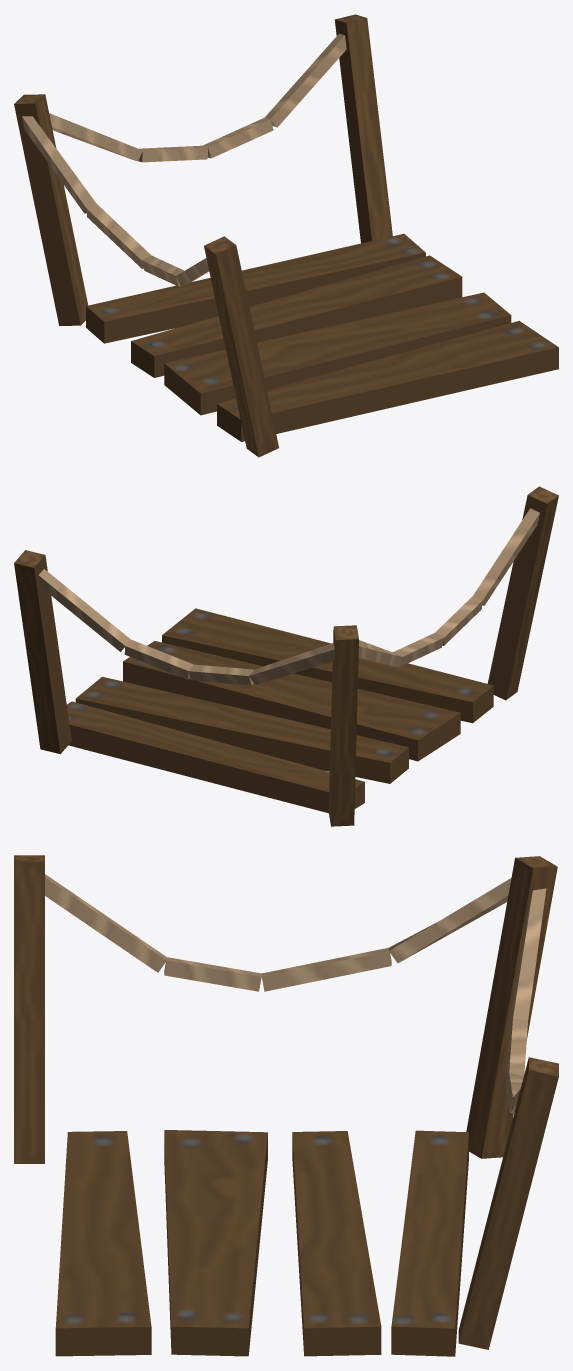
The model's file is bridge_wooden_corner.fbx.
The picture shows the model from 3 angles, top to bottom: view 1: azimuth 30°, elevation 25°; view 2: azimuth 150°, elevation 25°; view 3: azimuth 270°, elevation 25°; orthographic projection. The views are drawn at different scales.
Visible parts, largest first — view 1: BridgeWooden_LOD0; view 2: BridgeWooden_LOD0; view 3: BridgeWooden_LOD0.
Boxes of the visible parts, x1,y1,x2,y2 form: BridgeWooden_LOD0: [14, 14, 558, 457]; BridgeWooden_LOD0: [14, 486, 558, 826]; BridgeWooden_LOD0: [14, 855, 558, 1356].
Size of what is drawn, in the model's own units: 691 by 402 by 704.
